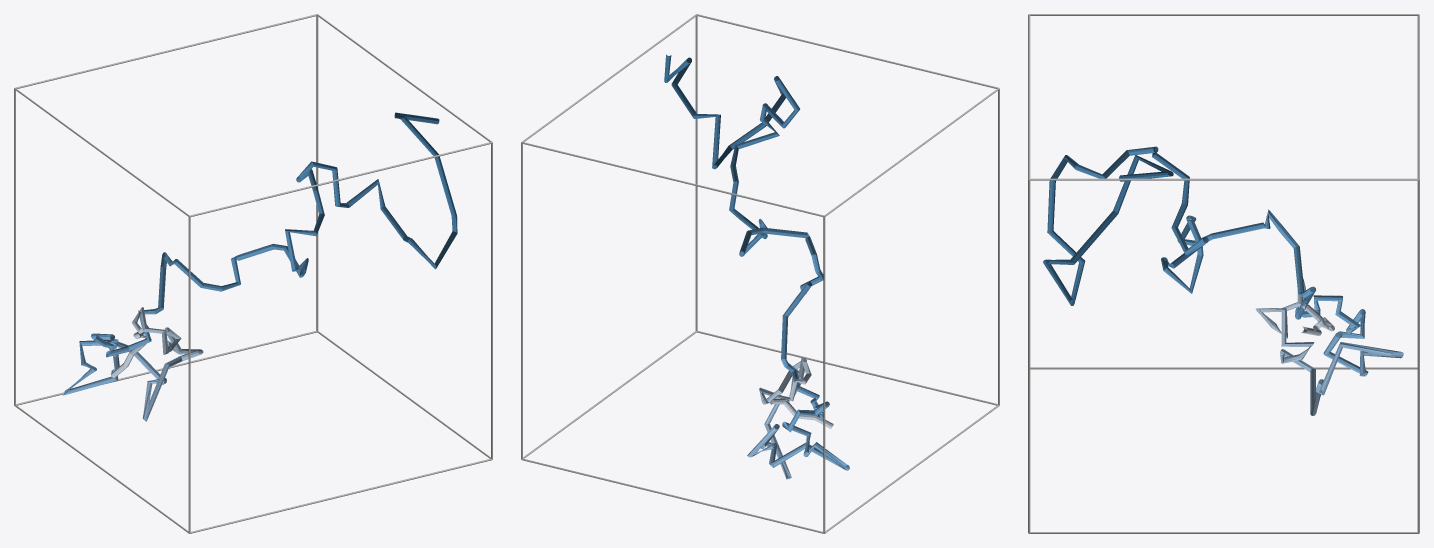
The picture shows the model from 3 angles, left to right: view 1: azimuth 30°, elevation 25°; view 2: azimuth 150°, elevation 25°; view 3: azimuth 270°, elevation 25°; orthographic projection. The views are drawn at different scales.
Visible parts, largest first — view 1: geometry_0, geometry_1; view 2: geometry_1, geometry_0; view 3: geometry_0, geometry_1.
Boxes of the visible parts, x1,y1,x2,y2 form: geometry_0: (63,112,457,421); geometry_1: (14,14,492,533); geometry_1: (521,14,999,533); geometry_0: (664,54,849,479); geometry_0: (1043,146,1403,415); geometry_1: (1028,14,1419,533).
Bounding box in the file's own units: 0.3016 × 0.3038 × 0.3016.
